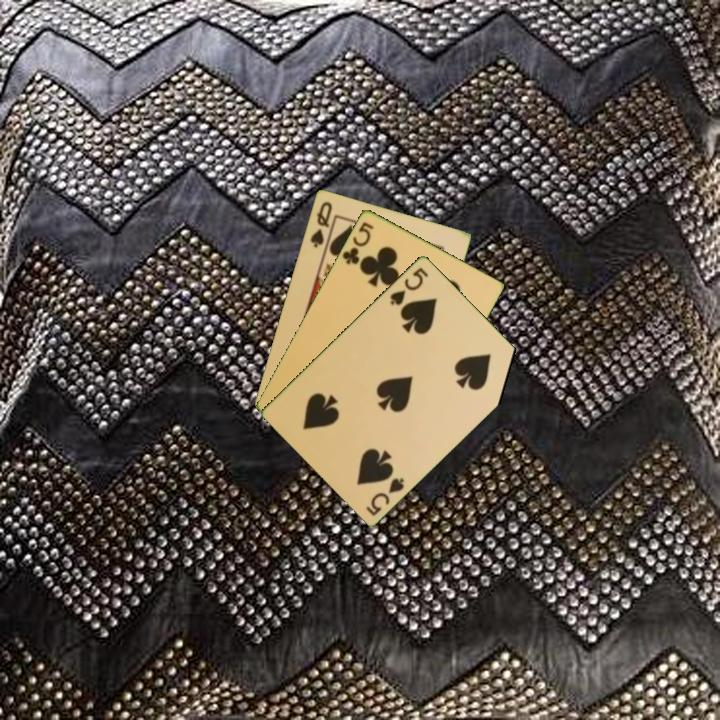5c: (339, 218, 377, 267)
5s: (386, 263, 431, 308), (362, 474, 408, 518)
Qs: (306, 197, 335, 250)
